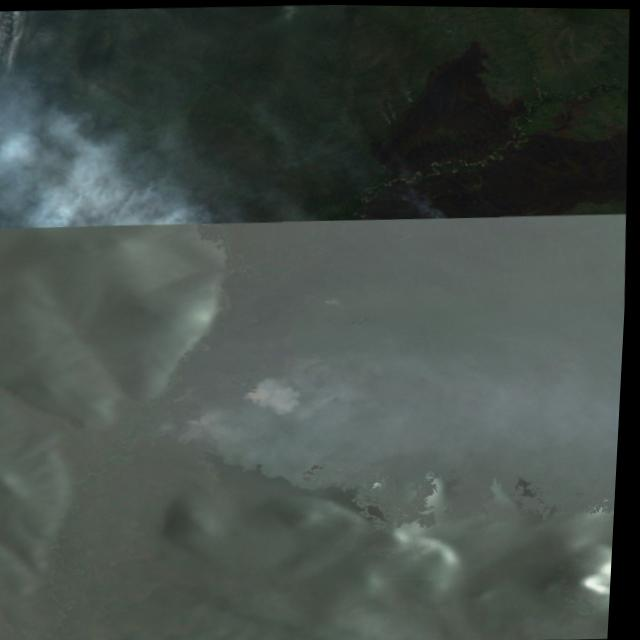fire: (148, 396, 221, 445), (234, 375, 284, 407)
